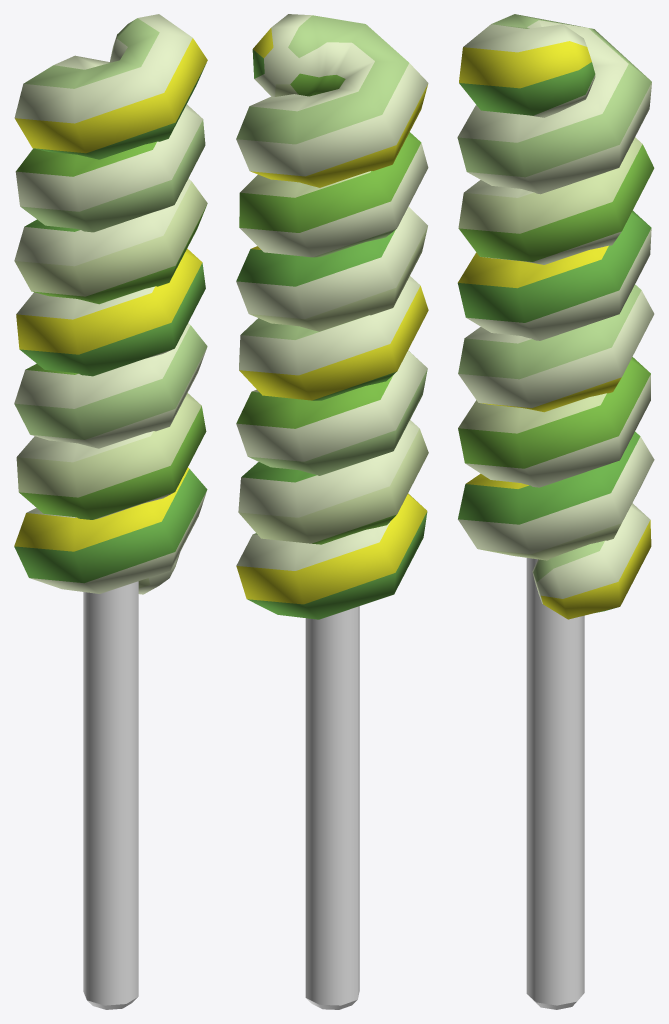
Rendered from Candy_18.fbx.
3 renders of one model, left to right at view 1: azimuth 30°, elevation 25°; view 2: azimuth 150°, elevation 25°; view 3: azimuth 270°, elevation 25°, orthographic. The views are drawn at different scales.
Visible parts, largest first — view 1: Candy_18; view 2: Candy_18; view 3: Candy_18.
Part boxes in pixels (bbox=[...]): Candy_18: bbox=[14, 14, 207, 1009]; Candy_18: bbox=[236, 14, 428, 1009]; Candy_18: bbox=[457, 14, 654, 1009].
Bounding box in the file's own units: 0.4885 × 2.83 × 0.5107.
